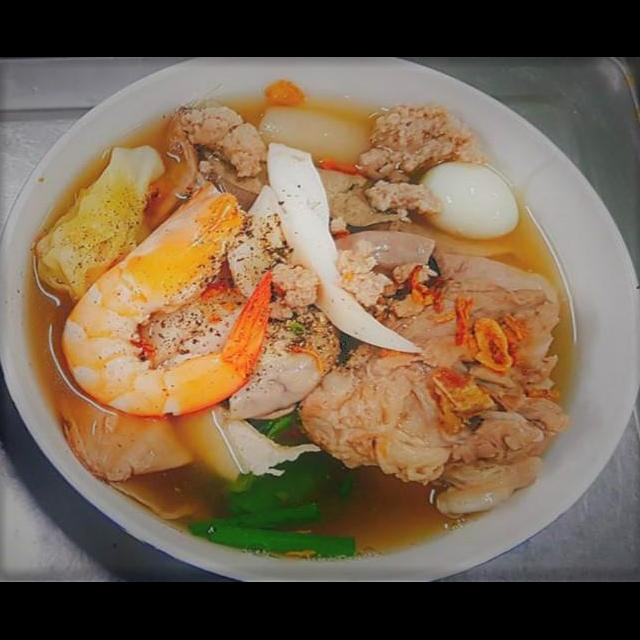muc: (273, 272, 540, 407)
thit bam: (436, 344, 589, 458), (324, 272, 418, 379), (488, 195, 598, 278)
thit heo: (110, 298, 417, 532)
tom: (186, 102, 492, 284)
trung: (414, 393, 522, 486)
